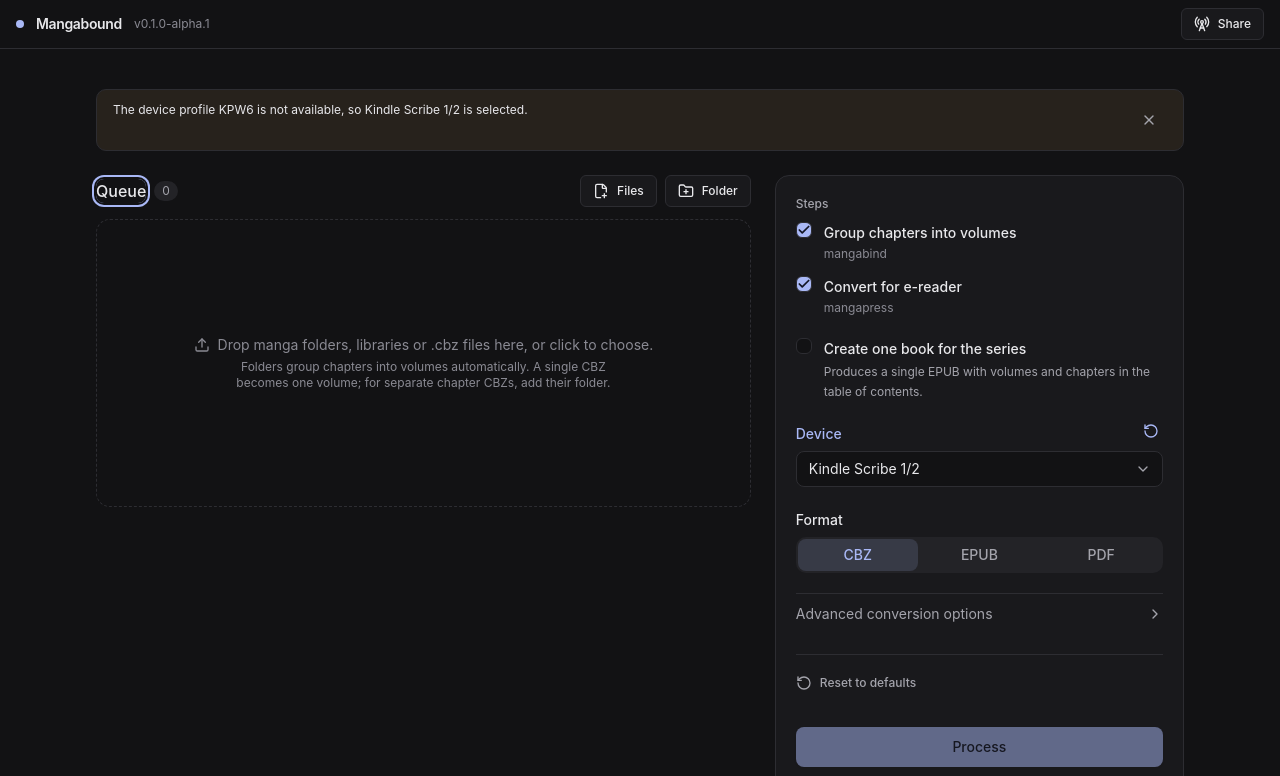
the options a run starts with › starts from the first device on offer, with its own upscaling, when the default one is missing
Expected: the dropdown labelled "Device" shows "Kindle Scribe 1/2", [796,451,1163,487]
Expected: the list item "The device profile KPW6 is not available, so Kindle Scribe 1/2 is selected." is shown, [113,102,528,117]
Click the button "Folder" at (708, 191), box [665,175,751,207]
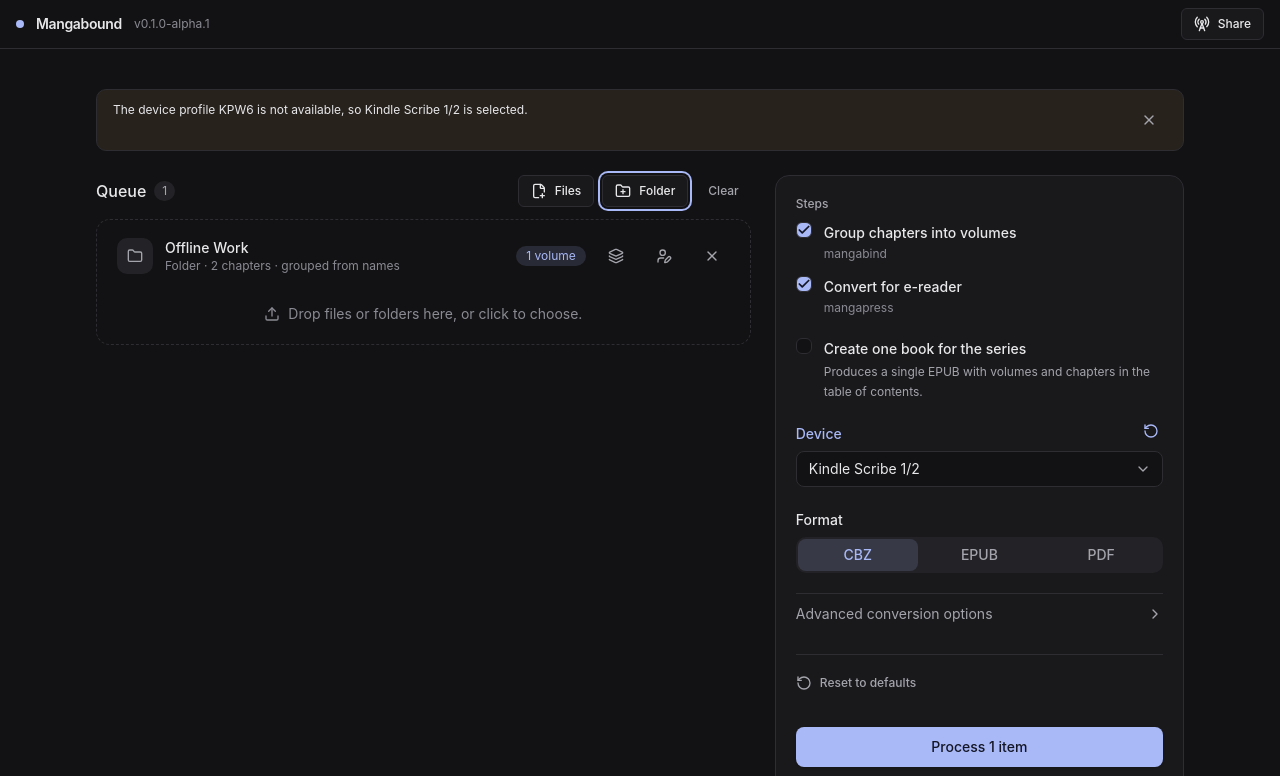
Click the button "Process 1 item" at (979, 747), box [796,727,1163,767]
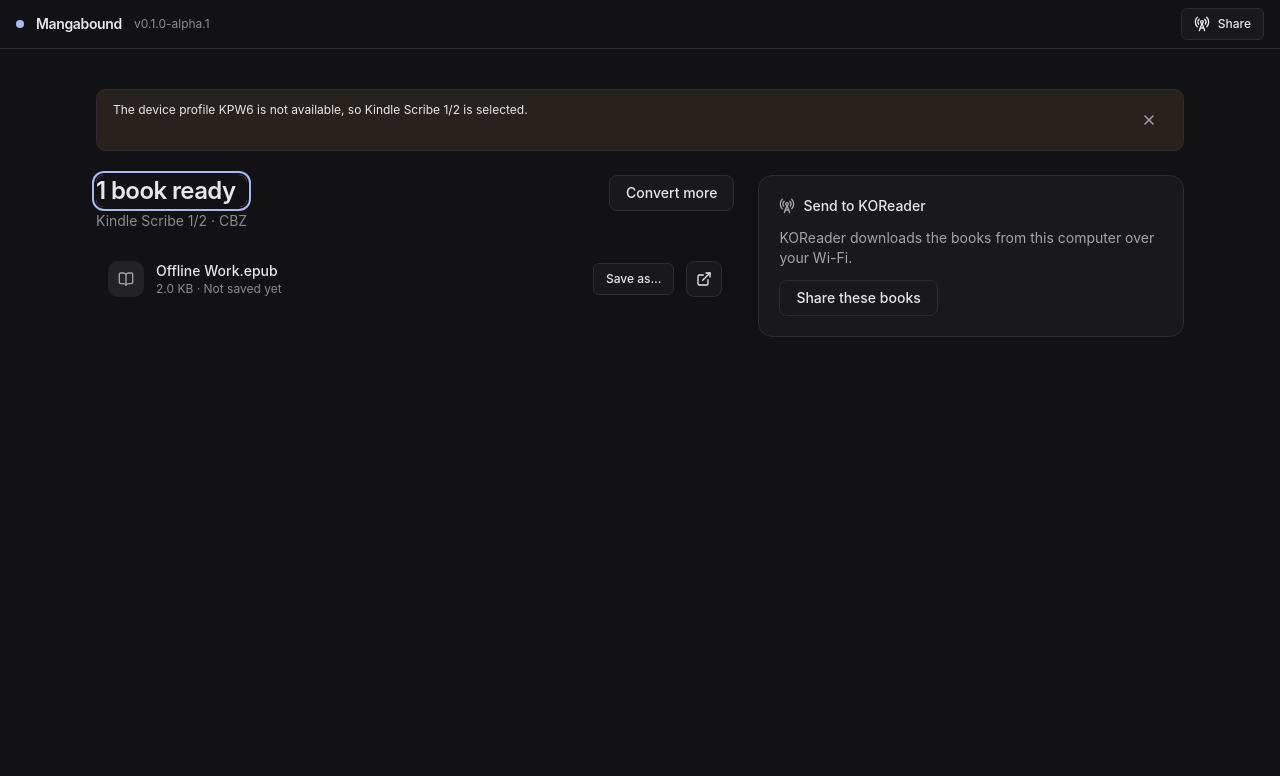
Now the heading "1 book ready" is shown, box [96,175,247,207]
